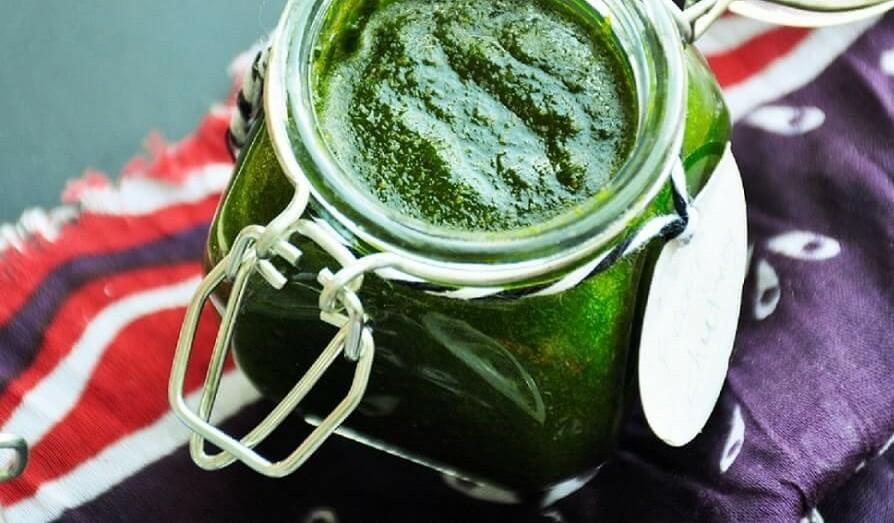GreenChutney: (205, 0, 724, 475)
